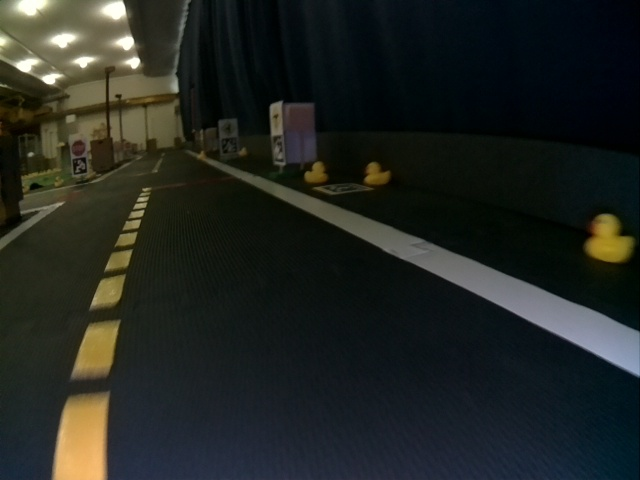Duckie: (587, 214, 634, 262), (365, 162, 390, 184), (304, 162, 327, 182), (54, 176, 63, 186), (196, 151, 206, 160), (238, 148, 247, 156)
Intersection sign: (270, 101, 282, 133), (220, 119, 238, 136)
QR code: (314, 183, 370, 194), (271, 134, 285, 163), (73, 157, 88, 175), (221, 138, 237, 154)
Stop sign: (71, 138, 86, 157)
